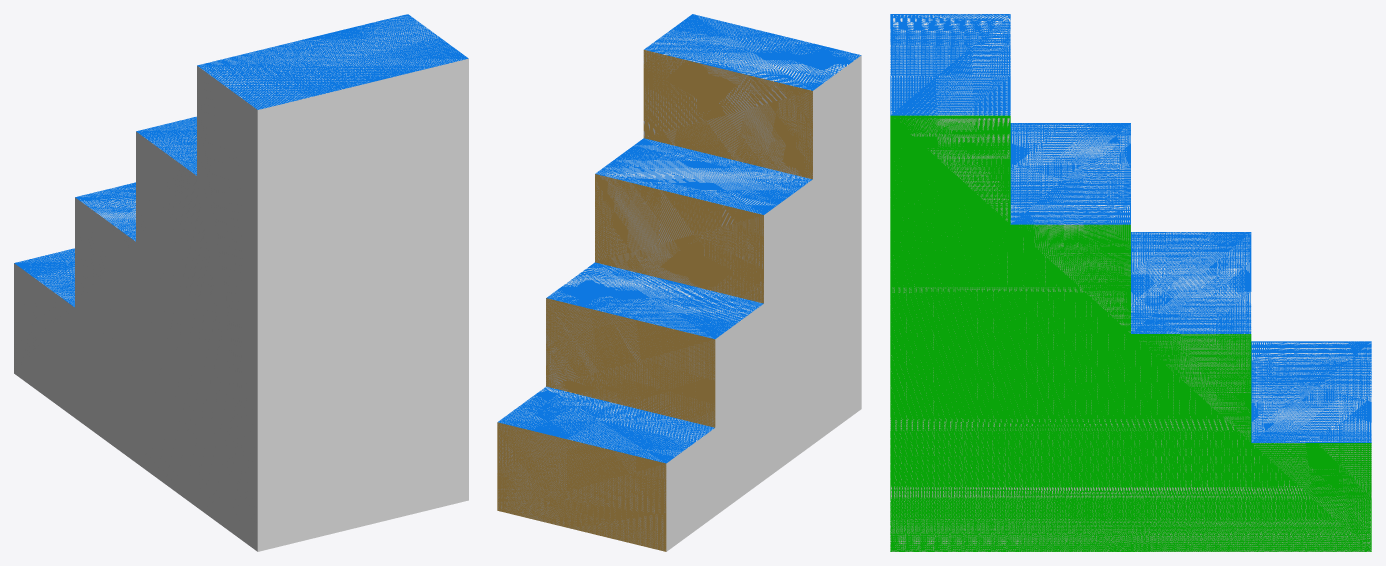
File: Figura4.dae
3 renders of one model, left to right at view 1: azimuth 30°, elevation 25°; view 2: azimuth 150°, elevation 25°; view 3: azimuth 270°, elevation 25°, orthographic. The views are drawn at different scales.
Visible parts, largest first — view 1: SketchUp (×5); view 2: SketchUp (×9); view 3: SketchUp (×5).
Part boxes in pixels (left/top/right/bottom): SketchUp (×5): left=14, top=14, right=468, bottom=551; SketchUp (×9): left=497, top=14, right=861, bottom=551; SketchUp (×5): left=890, top=14, right=1371, bottom=551.
Bounding box in the file's own units: 15.75 × 31.5 × 31.5.
